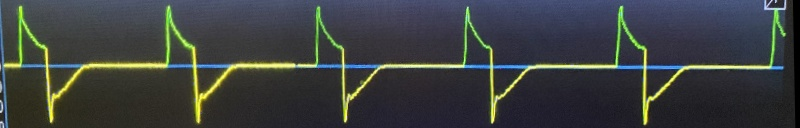normal_flow: (3, 0, 770, 128)
